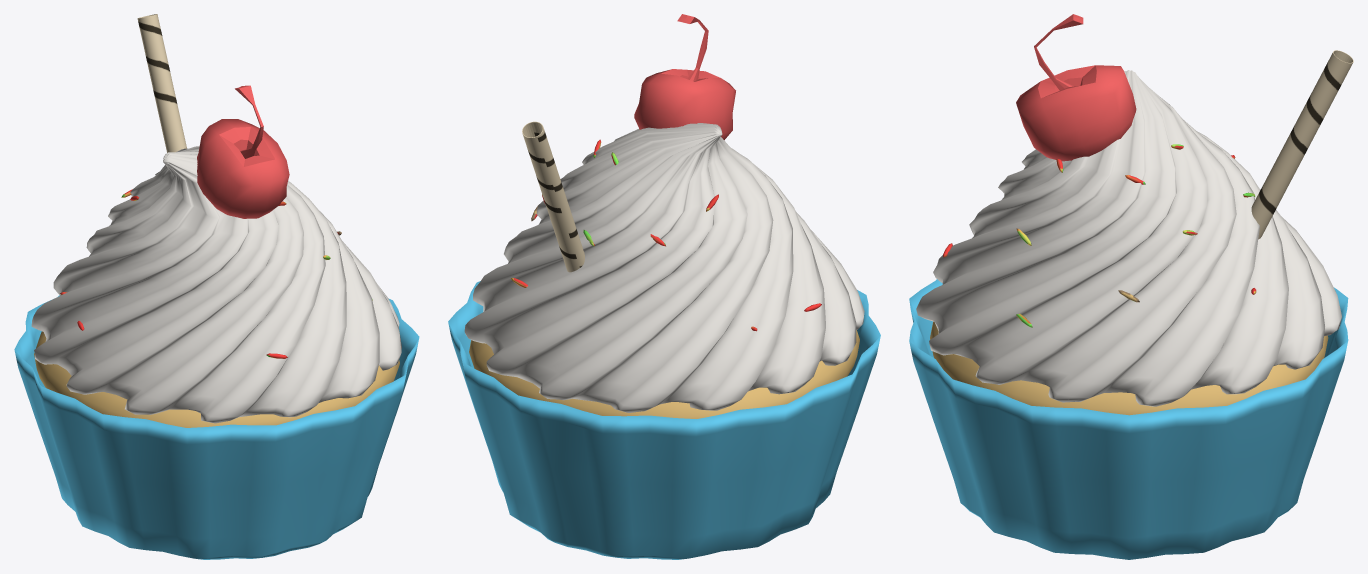
File: Cupcake.fbx
3 views of the same model, side by side, from view 1: azimuth 30°, elevation 25°; view 2: azimuth 150°, elevation 25°; view 3: azimuth 270°, elevation 25° (orthographic). The views are drawn at different scales.
Parts seen in each view (by area): view 1: whipcream, PaperBottom1, cherry, muffintop1, candystraw; view 2: whipcream, PaperBottom1, cherry, muffintop1, candystraw, sprinkle15; view 3: whipcream, PaperBottom1, cherry, muffintop1, candystraw, sprinkle15.
Part boxes in pixels (left/top/right/bottom): whipcream: left=31, top=146, right=401, bottom=423; PaperBottom1: left=14, top=295, right=419, bottom=559; cherry: left=197, top=85, right=289, bottom=218; muffintop1: left=34, top=331, right=399, bottom=427; candystraw: left=137, top=14, right=186, bottom=152; whipcream: left=464, top=123, right=864, bottom=412; PaperBottom1: left=448, top=281, right=880, bottom=559; cherry: left=634, top=14, right=735, bottom=140; muffintop1: left=469, top=330, right=859, bottom=418; candystraw: left=522, top=121, right=584, bottom=272; sprinkle15: left=511, top=139, right=821, bottom=331; whipcream: left=916, top=70, right=1341, bottom=406; PaperBottom1: left=909, top=279, right=1348, bottom=559; cherry: left=1016, top=14, right=1136, bottom=161; muffintop1: left=930, top=321, right=1328, bottom=415; candystraw: left=1251, top=50, right=1353, bottom=239; sprinkle15: left=943, top=144, right=1256, bottom=327.
Size of the model in its own units: 0.6197 by 0.7225 by 0.6102.
Materials: 1 (1 with a texture image).
